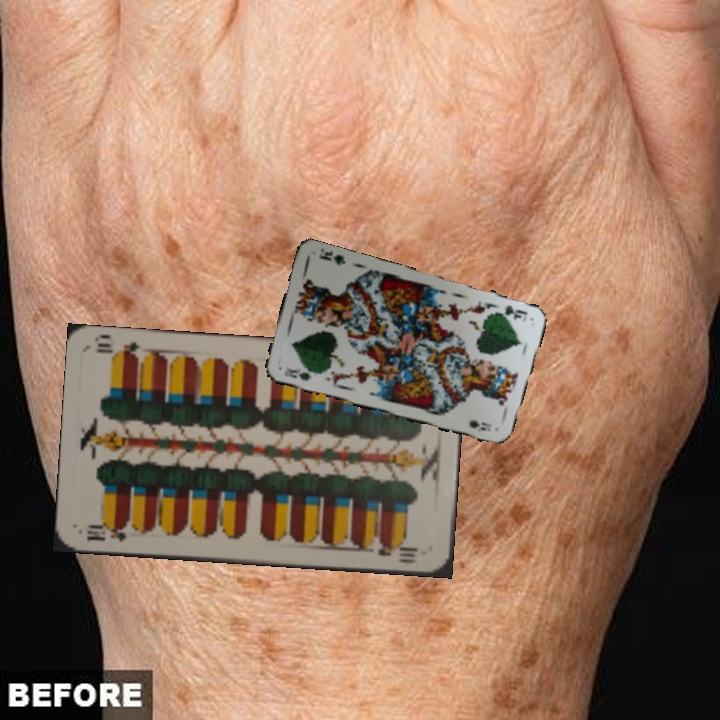E10: (82, 519, 129, 544)
GK: (491, 301, 531, 321), (280, 364, 319, 383)
